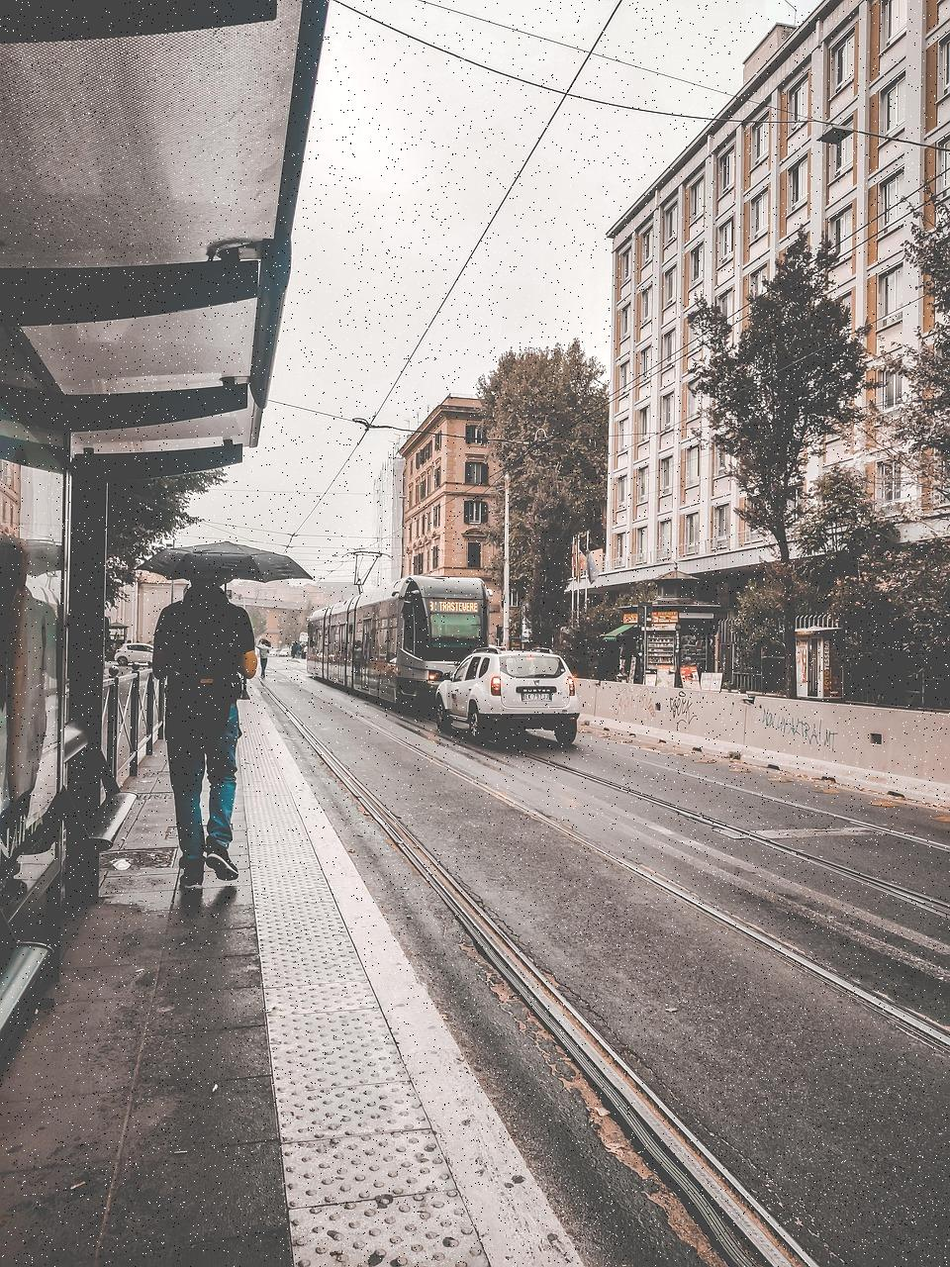car: (440, 650, 584, 750)
pedestrian: (151, 582, 259, 897), (256, 639, 270, 683)
